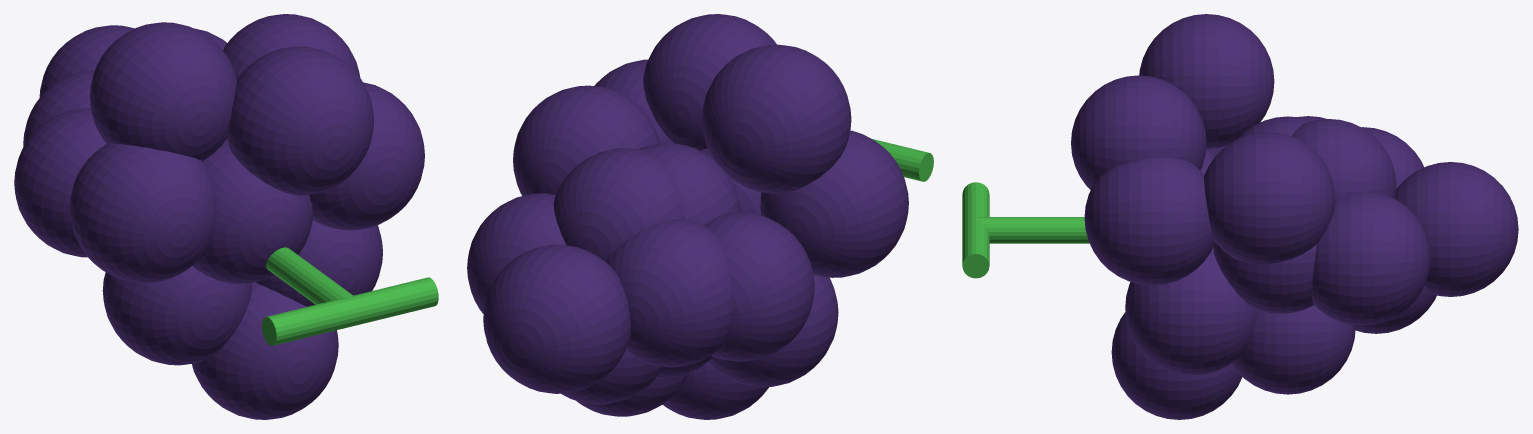
The model's file is tinker.obj.
3 renders of one model, left to right at view 1: azimuth 30°, elevation 25°; view 2: azimuth 150°, elevation 25°; view 3: azimuth 270°, elevation 25°, orthographic. The views are drawn at different scales.
Visible parts, largest first — view 1: group_0_4796018, group_0_4634441; view 2: group_0_4796018, group_0_4634441; view 3: group_0_4796018, group_0_4634441.
Boxes of the visible parts, x1,y1,x2,y2 form: group_0_4796018: (14, 14, 424, 419); group_0_4634441: (261, 247, 438, 345); group_0_4796018: (467, 14, 908, 419); group_0_4634441: (872, 139, 933, 181); group_0_4796018: (1071, 14, 1518, 419); group_0_4634441: (962, 182, 1089, 278).
Size of the model in its own units: 50 by 58 by 82.
